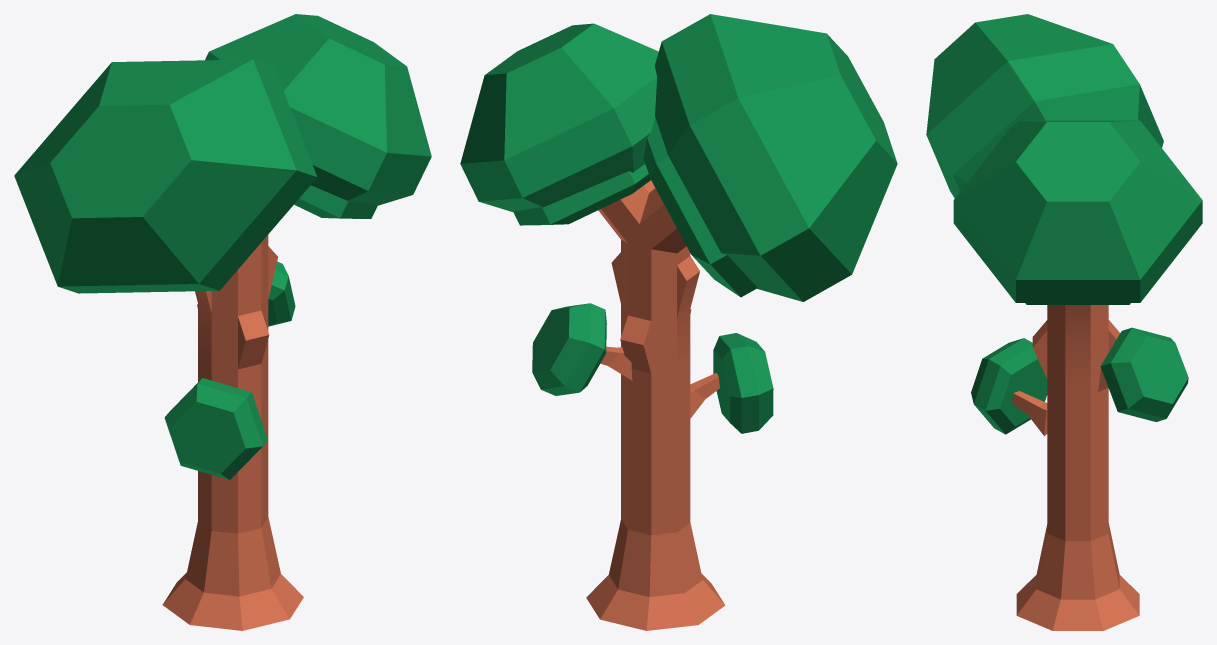
The model's file is leaftreebig4.fbx.
3 renders of one model, left to right at view 1: azimuth 30°, elevation 25°; view 2: azimuth 150°, elevation 25°; view 3: azimuth 270°, elevation 25°, orthographic. The views are drawn at different scales.
Parts seen in each view (by area): view 1: leafs_cone (×2), trunk_base, leafs_round (×3), trunk_detailedB, trunk; view 2: leafs_cone (×2), leafs_round (×4), trunk, trunk_base, trunk_detailedB, trunk_split, tree_branchShortBend (×2); view 3: leafs_cone (×2), leafs_round (×2), trunk, trunk_base, trunk_detailedB, tree_branchShortBend.
Boxes of the visible parts, x1=… form: leafs_cone (×2): x1=14, y1=14, x2=431, y2=293; trunk_base: x1=162, y1=517, x2=303, y2=630; leafs_round (×3): x1=164, y1=185, x2=377, y2=479; trunk_detailedB: x1=195, y1=246, x2=277, y2=369; trunk: x1=198, y1=353, x2=268, y2=533; leafs_cone (×2): x1=460, y1=14, x2=897, y2=301; leafs_round (×4): x1=513, y1=118, x2=773, y2=433; trunk: x1=621, y1=361, x2=690, y2=535; trunk_base: x1=586, y1=519, x2=725, y2=630; trunk_detailedB: x1=611, y1=252, x2=699, y2=373; trunk_split: x1=598, y1=180, x2=690, y2=273; tree_branchShortBend (×2): x1=600, y1=346, x2=719, y2=418; leafs_cone (×2): x1=926, y1=14, x2=1202, y2=302; leafs_round (×2): x1=971, y1=327, x2=1188, y2=434; trunk: x1=1047, y1=380, x2=1108, y2=541; trunk_base: x1=1016, y1=523, x2=1139, y2=630; trunk_detailedB: x1=1032, y1=305, x2=1120, y2=387; tree_branchShortBend: x1=1012, y1=391, x2=1047, y2=435.
Size of the model in its own units: 23.49 by 34.92 by 16.32.
